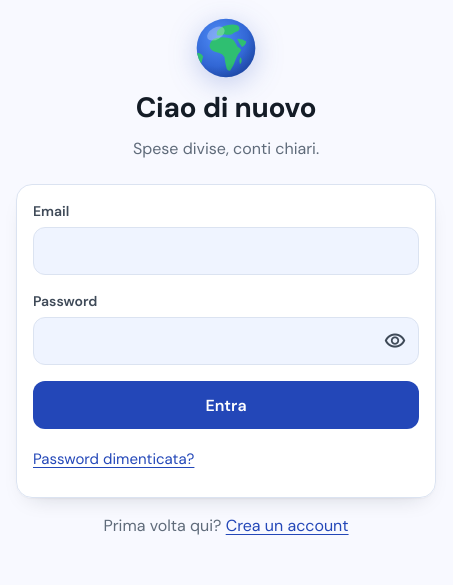
LoginPage › mostra il messaggio del server su credenziali sbagliate
Type "vale@example.com" into the field labelled "Email" at (226, 251), box [33,227,419,275]
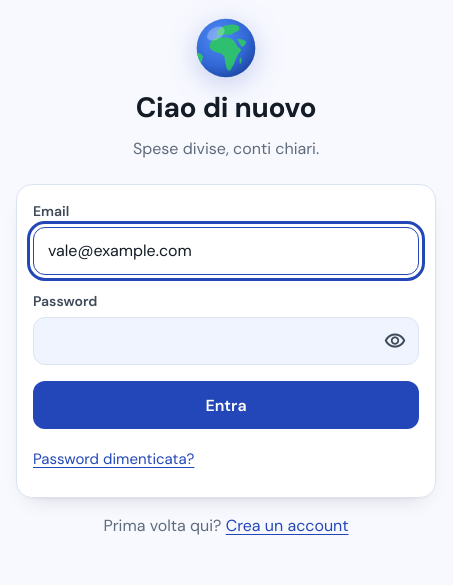
Type "sbagliata" into the password field labelled "Password" at (226, 341), box [33,317,419,365]
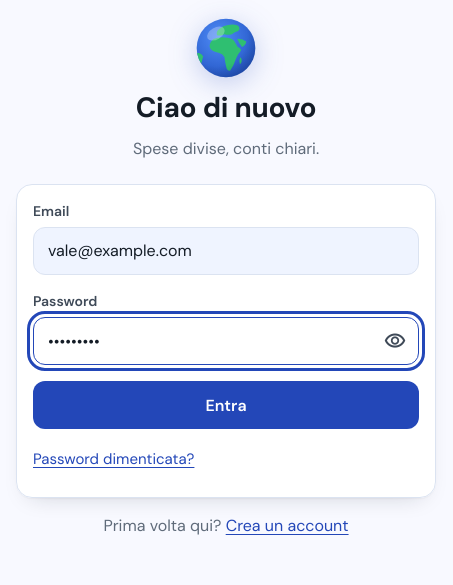
Click the button "Entra" at (226, 405), box [33,381,419,429]
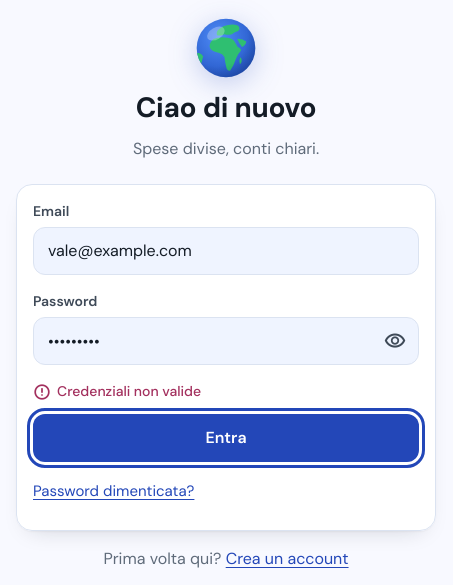
Now the message reads "Credenziali non valide", box [57,382,201,400]
